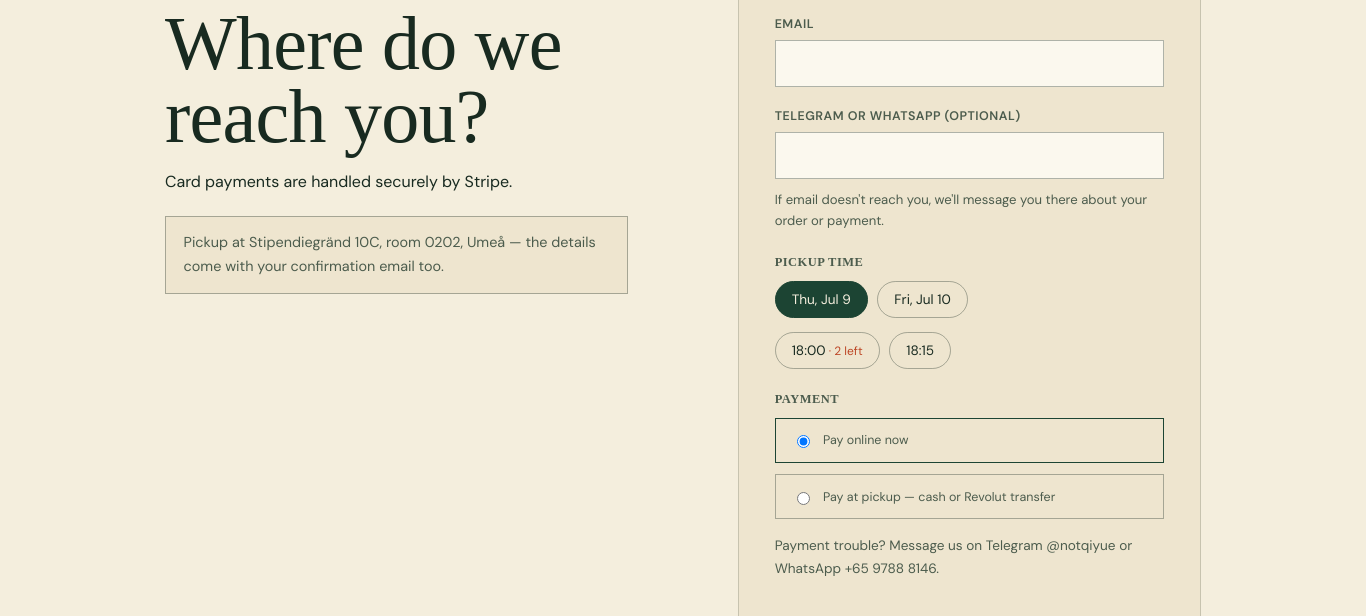
Test: CheckoutPage › keeps the submit button disabled until a pickup slot is chosen
Step 1. Click the button "18:00 · 2 left" → {"x": 827, "y": 350}, box [775,332,880,369]
(page scrolled)
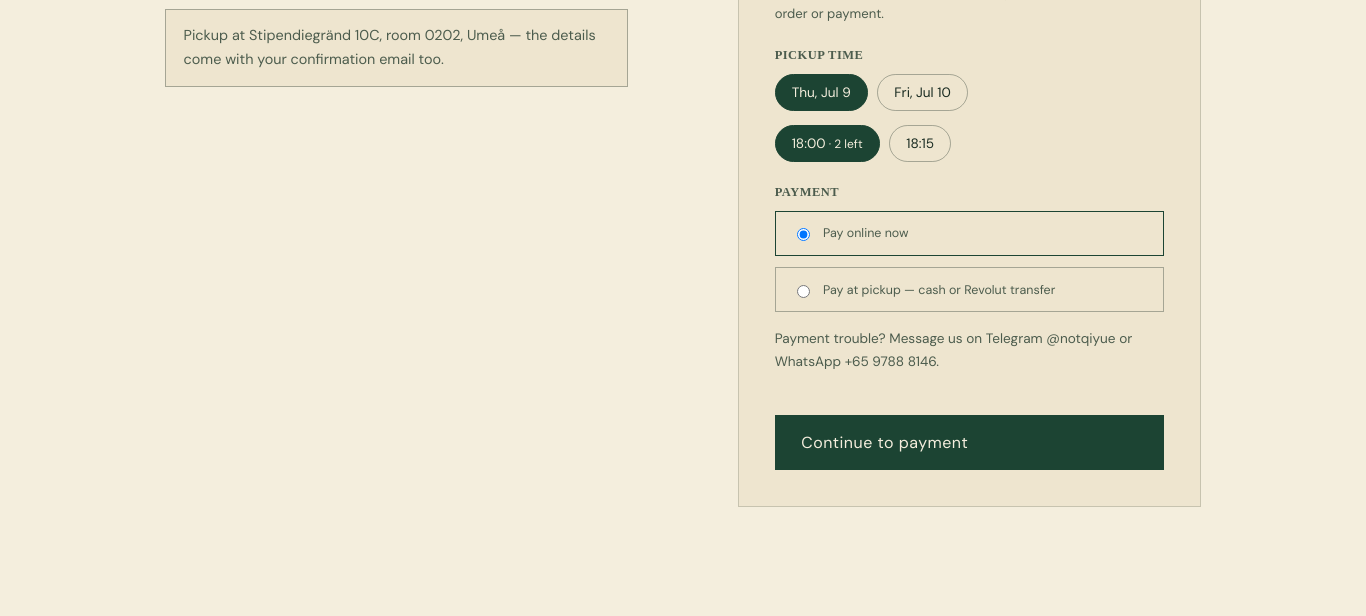
Expected: the button "Continue to payment" is enabled, [775,415,1164,470]
